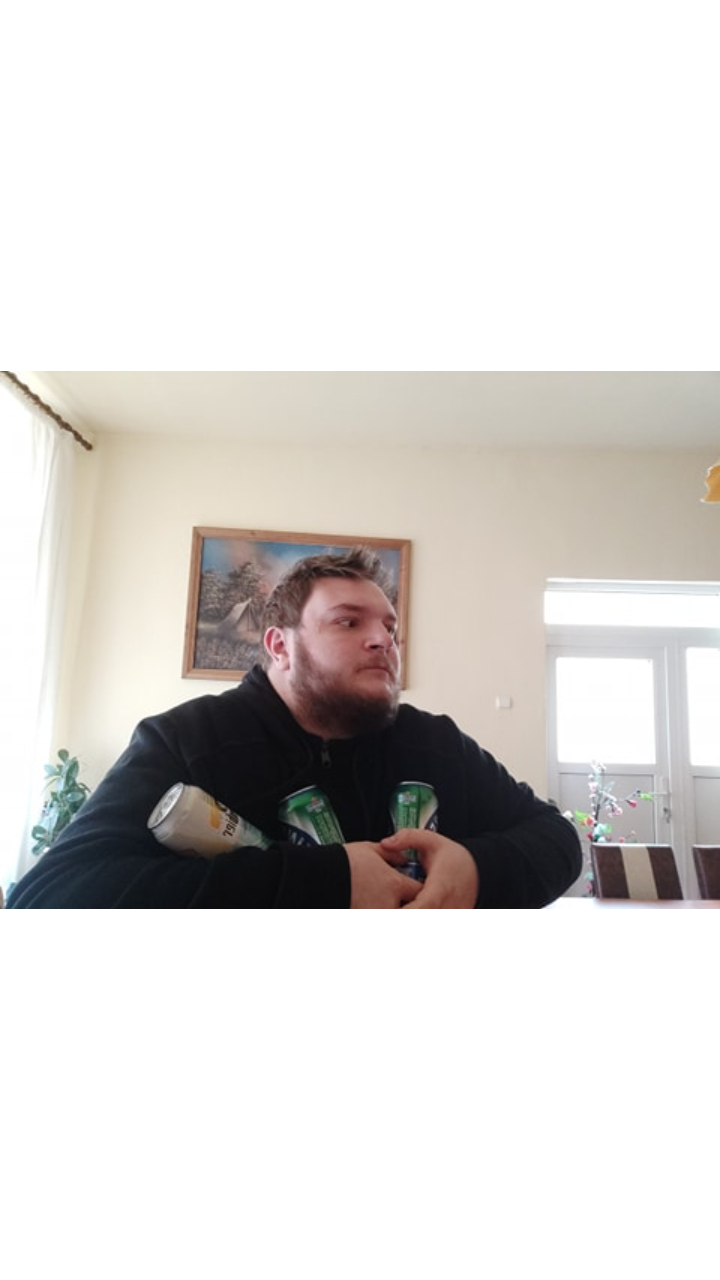Can: (145, 783, 264, 848), (389, 779, 440, 876), (281, 785, 344, 844)
